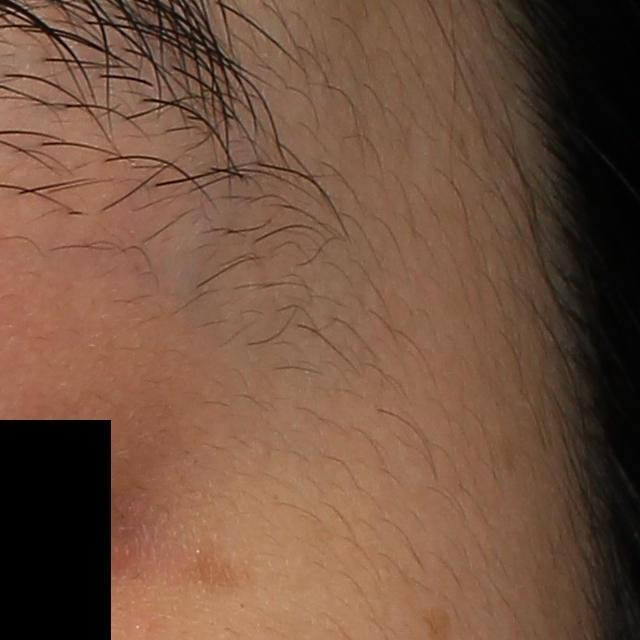melasma: (178, 525, 256, 600)
